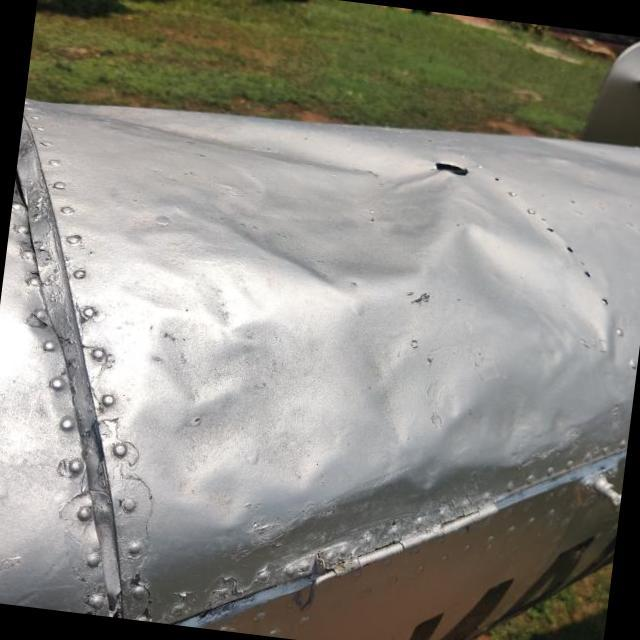Dent: (113, 266, 360, 541), (154, 134, 478, 332), (423, 195, 640, 377)
